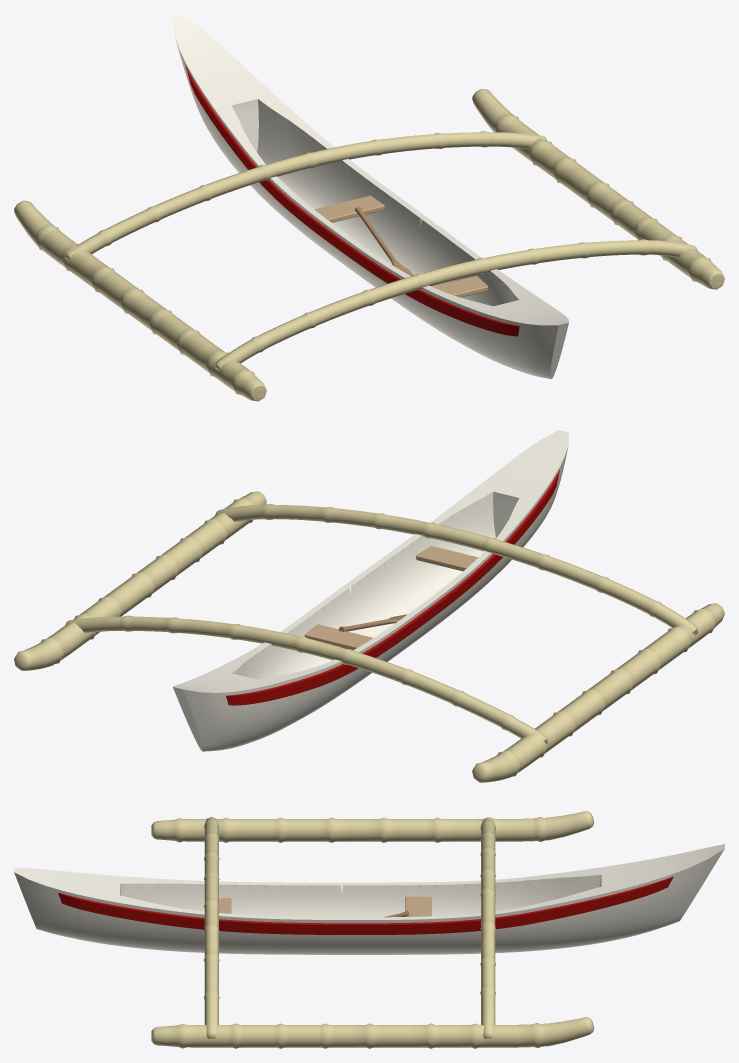
The model's file is boat_bangka_25757.glb.
3 views of the same model, one above another, from view 1: azimuth 30°, elevation 25°; view 2: azimuth 150°, elevation 25°; view 3: azimuth 270°, elevation 25° (orthographic). The views are drawn at different scales.
Visible parts, largest first — view 1: bangka_25757_paint_hull, bangka_25757_bamboo, bangka_25757_paint_trim, bangka_25757_plank; view 2: bangka_25757_bamboo, bangka_25757_paint_hull, bangka_25757_paint_trim, bangka_25757_plank; view 3: bangka_25757_paint_hull, bangka_25757_bamboo, bangka_25757_paint_trim, bangka_25757_plank.
Boxes of the visible parts, left/top/right/bottom form: bangka_25757_paint_hull: left=172, top=14, right=568, bottom=379; bangka_25757_bamboo: left=14, top=88, right=724, bottom=401; bangka_25757_paint_trim: left=185, top=64, right=519, bottom=336; bangka_25757_plank: left=314, top=195, right=487, bottom=297; bangka_25757_bamboo: left=14, top=491, right=724, bottom=782; bangka_25757_paint_hull: left=173, top=430, right=568, bottom=751; bangka_25757_paint_trim: left=226, top=469, right=559, bottom=705; bangka_25757_plank: left=304, top=546, right=477, bottom=649; bangka_25757_paint_hull: left=14, top=844, right=724, bottom=954; bangka_25757_bamboo: left=151, top=811, right=594, bottom=1048; bangka_25757_paint_trim: left=58, top=876, right=673, bottom=934; bangka_25757_plank: left=219, top=896, right=431, bottom=916.
Size of the model in its own units: 4.69 by 1.06 by 6.49.
